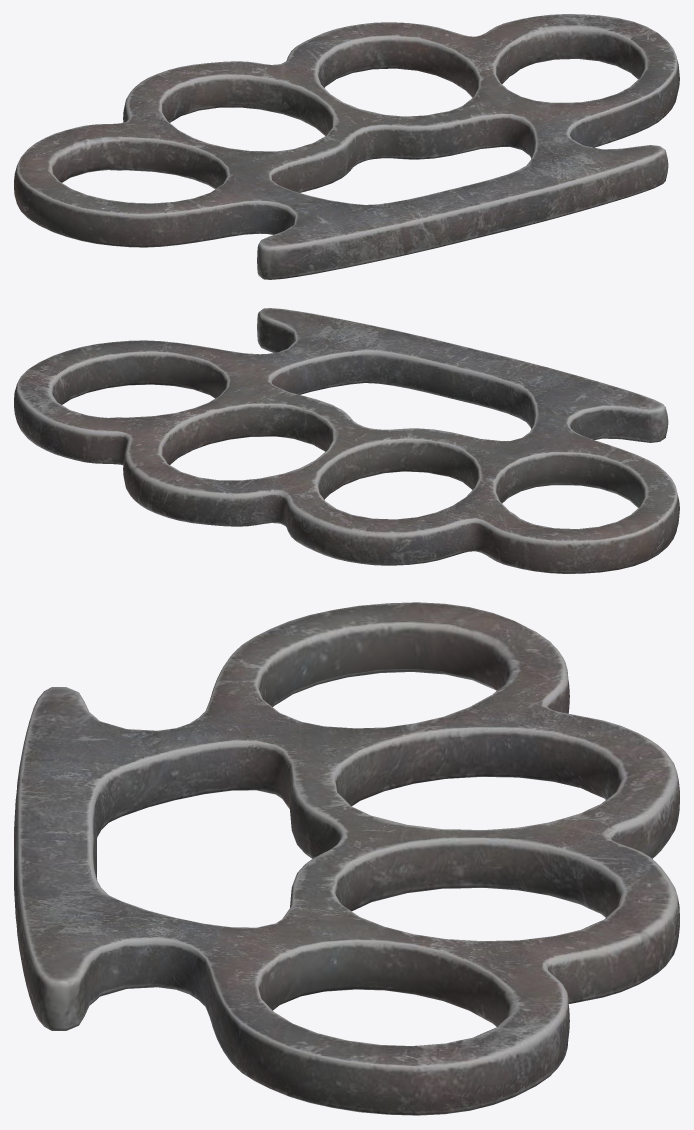
File: brass_kuckles.gltf
3 renders of one model, top to bottom at view 1: azimuth 30°, elevation 25°; view 2: azimuth 150°, elevation 25°; view 3: azimuth 270°, elevation 25°, orthographic. The views are drawn at different scales.
Visible parts, largest first — view 1: BRASS-KNUCKLES; view 2: BRASS-KNUCKLES; view 3: BRASS-KNUCKLES.
Boxes of the visible parts, bbox=[...] form: BRASS-KNUCKLES: bbox=[14, 14, 679, 279]; BRASS-KNUCKLES: bbox=[14, 308, 679, 573]; BRASS-KNUCKLES: bbox=[14, 602, 679, 1115].
Bounding box in the file's own units: 0.1 × 0.00498 × 0.06.
1 material, 1 textured.
